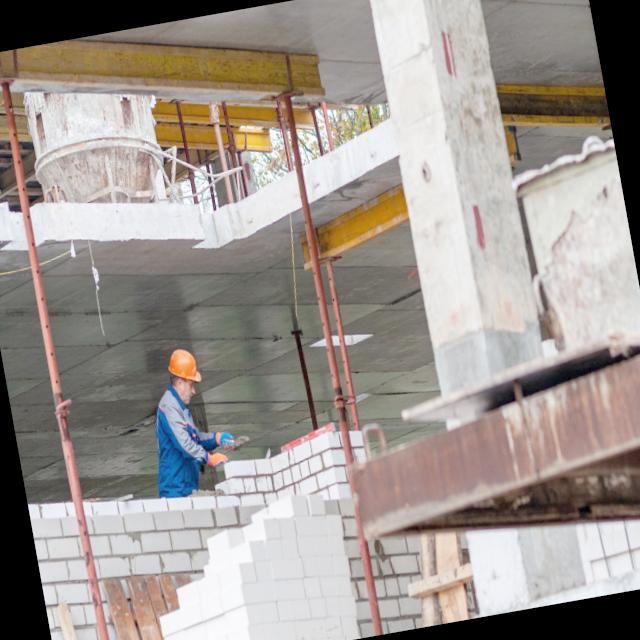Helmet: (167, 348, 204, 391)
NoJacket: (153, 388, 205, 495)
